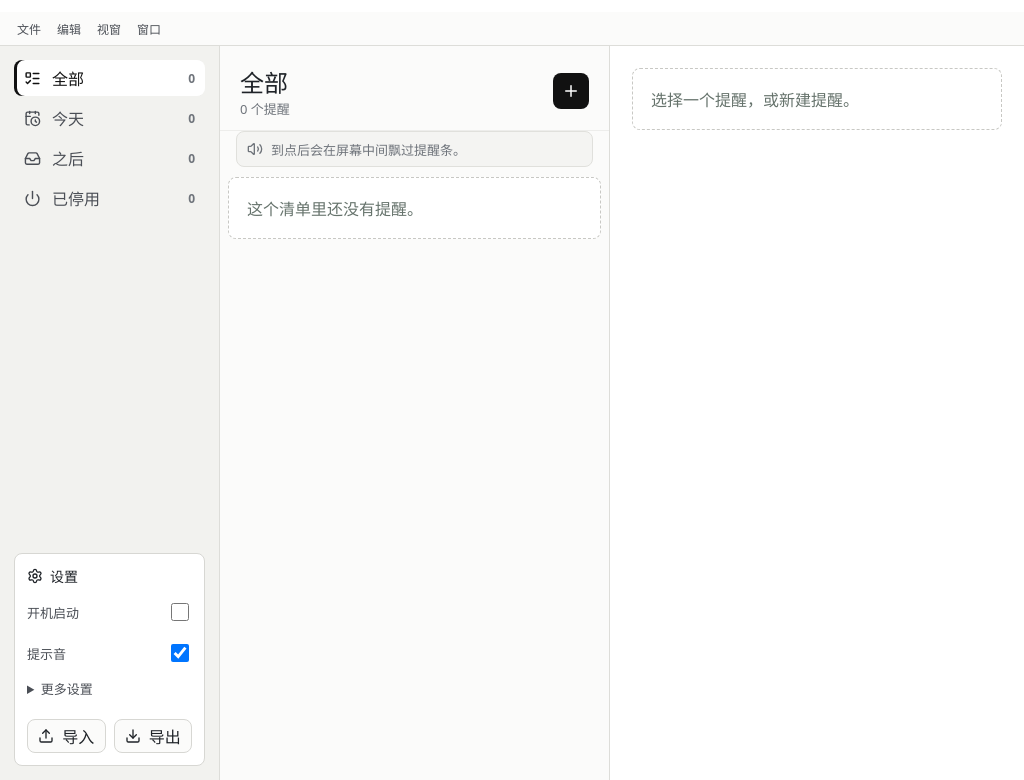
Test case: renderer reminder creation › persists a new draft only after save is clicked
Click the button with class "add-button" at {"x": 571, "y": 91}, box x1=553 y1=73 x2=589 y2=109
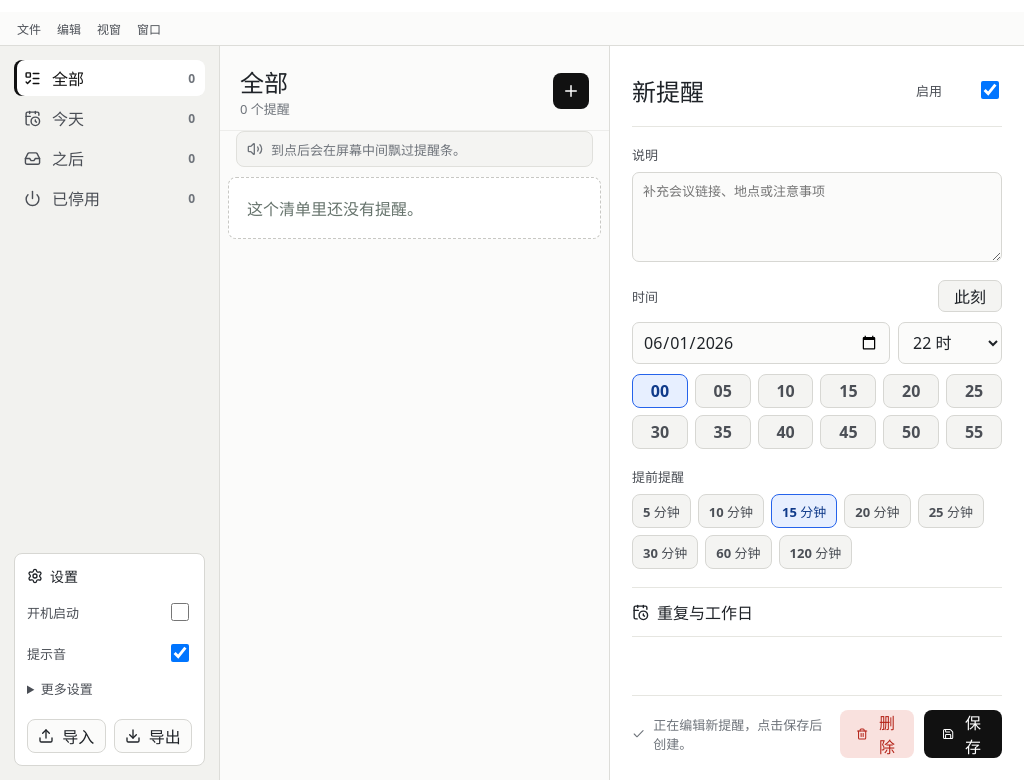
Click the button with class "inline" at {"x": 963, "y": 734}, box x1=924 y1=710 x2=1002 y2=758
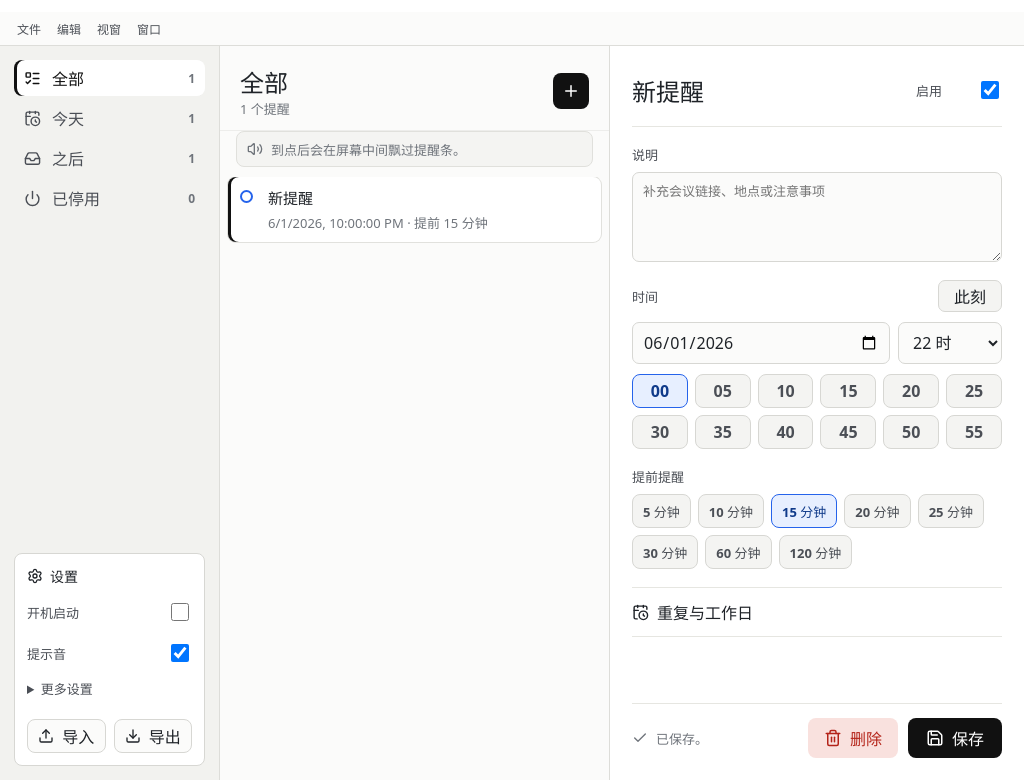
Expected: the text with class "reminder-title" reads "新提醒", x1=268 y1=188 x2=313 y2=208
Expected: the text "1 个提醒" is shown, x1=240 y1=99 x2=290 y2=118
